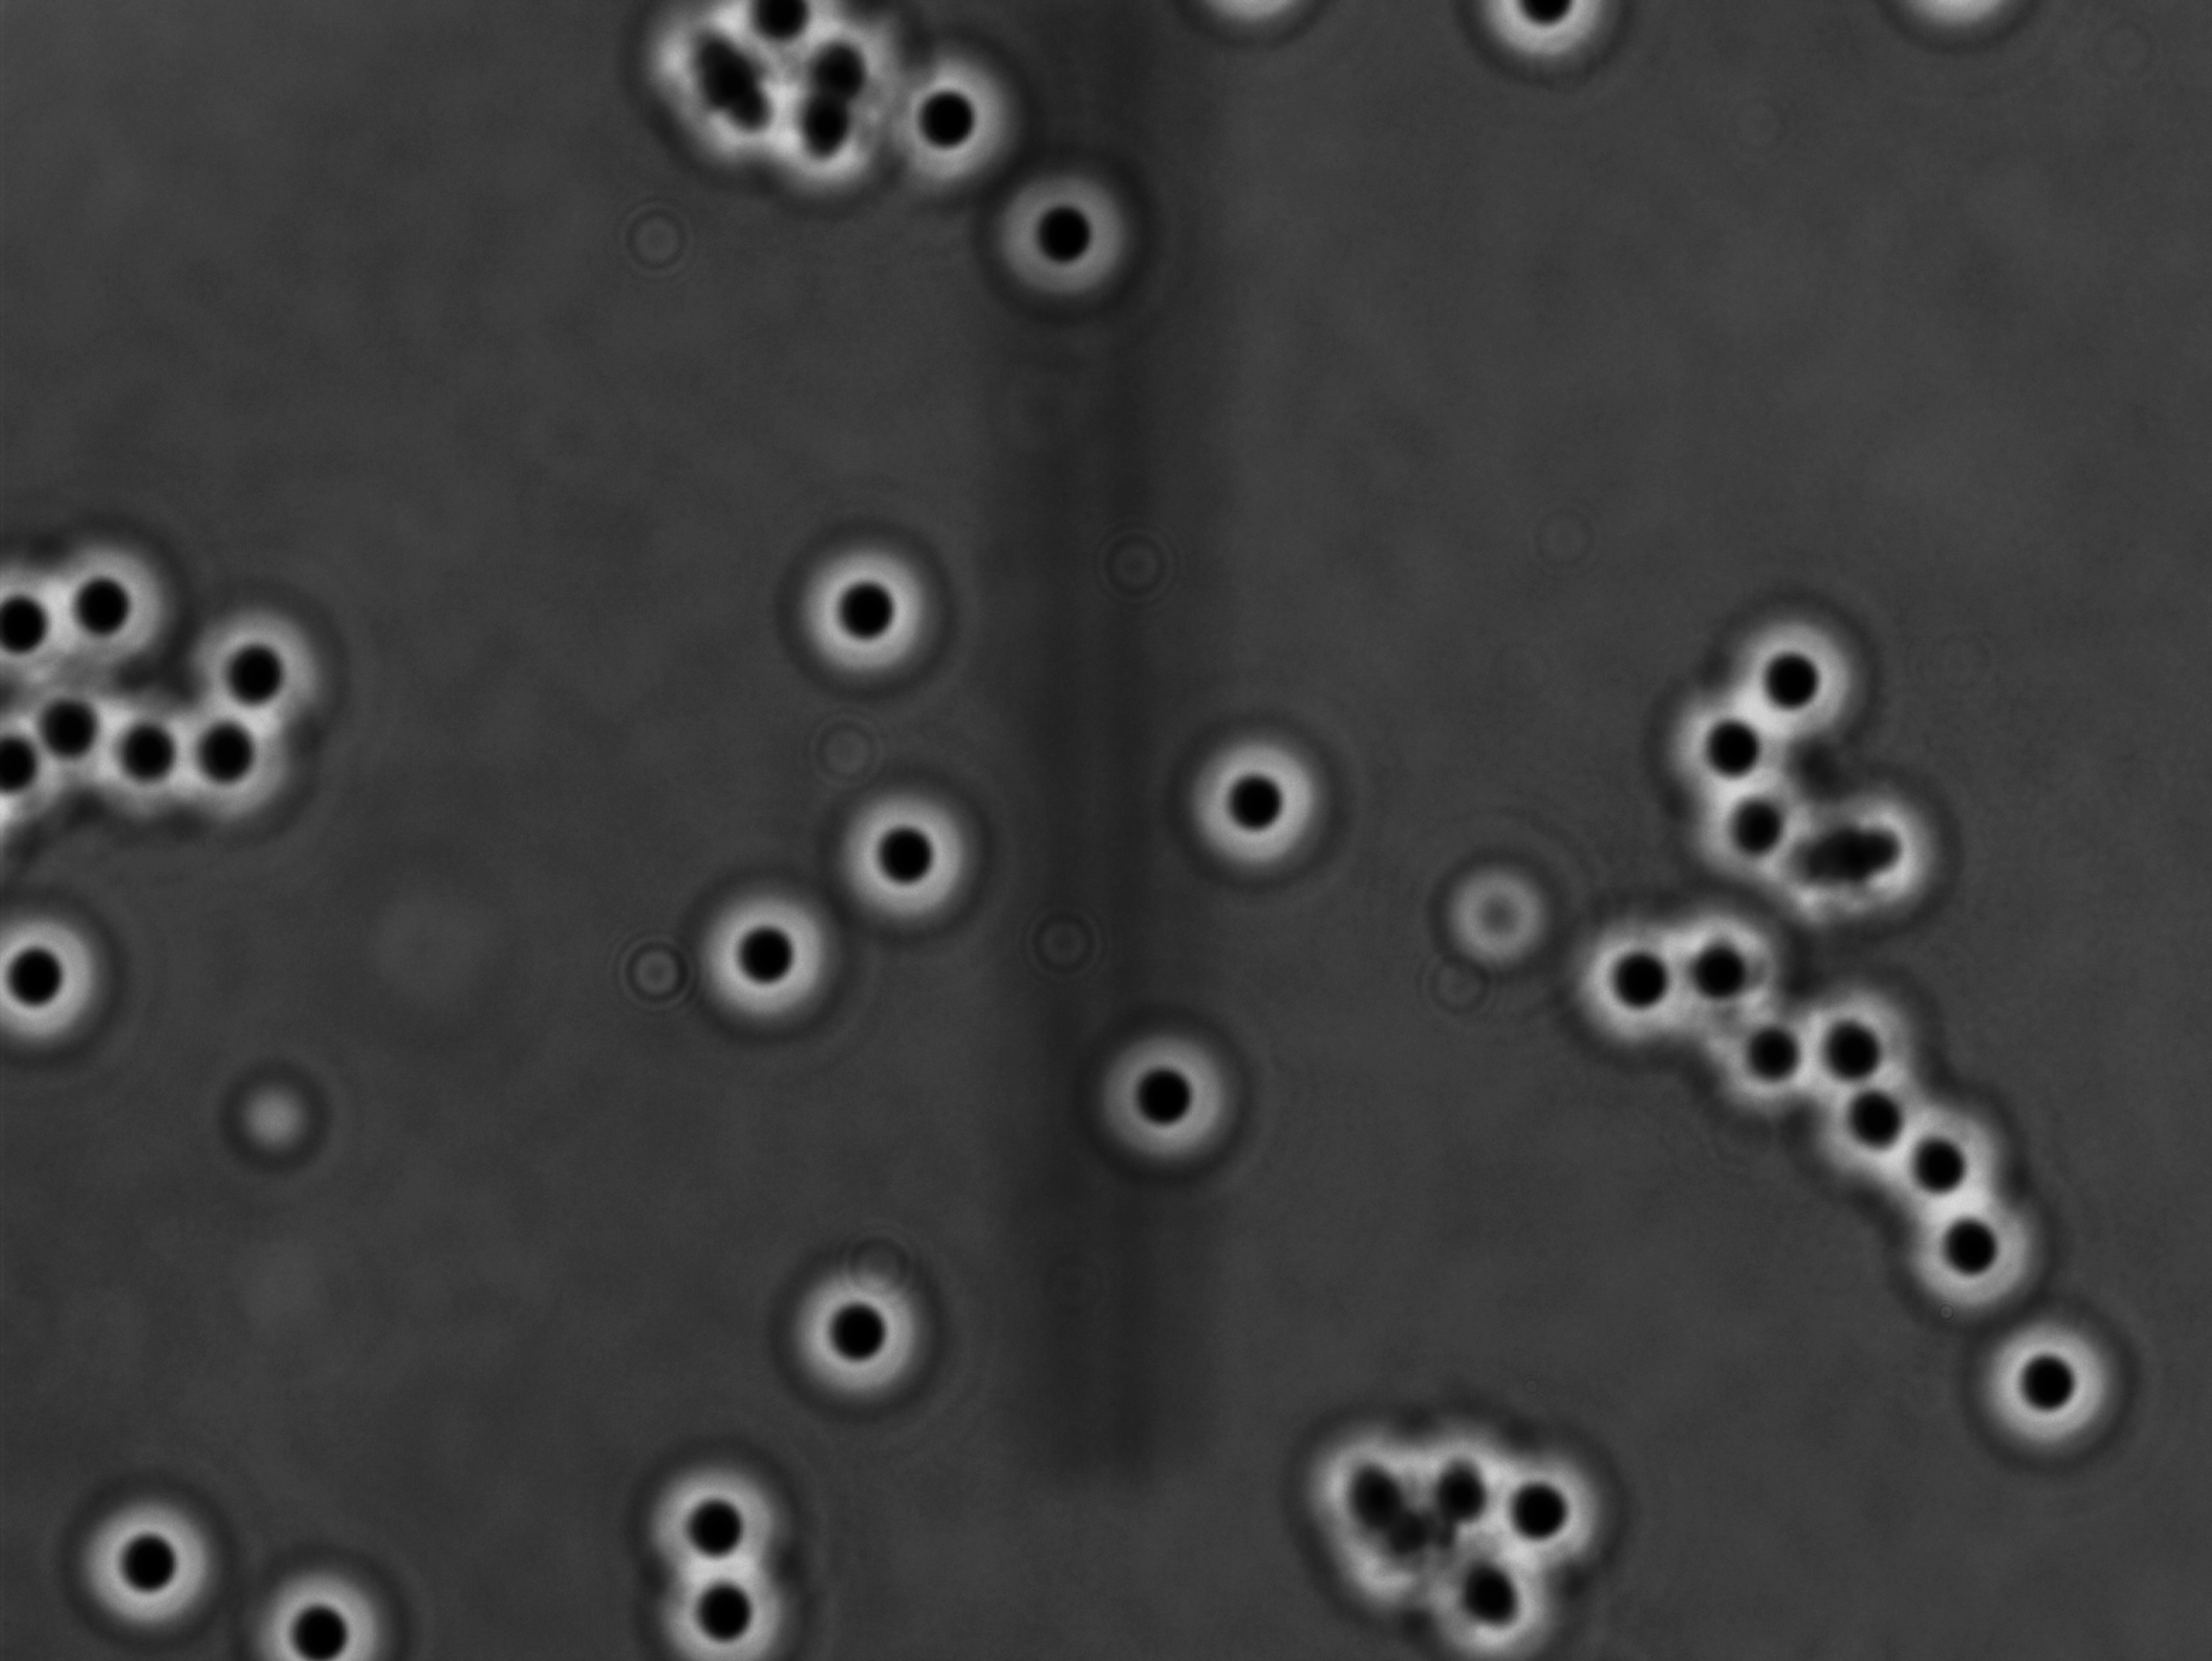depth:-60: (759, 1214, 973, 1420), (1073, 998, 1286, 1181), (764, 515, 966, 701), (1164, 707, 1354, 893), (621, 1415, 813, 1595), (816, 769, 1005, 947), (1970, 1307, 2160, 1478), (663, 865, 850, 1038), (61, 1480, 237, 1654), (1879, 1174, 2069, 1335), (970, 154, 1150, 316), (1713, 588, 1898, 743), (232, 1556, 415, 1661), (637, 1553, 808, 1661)
